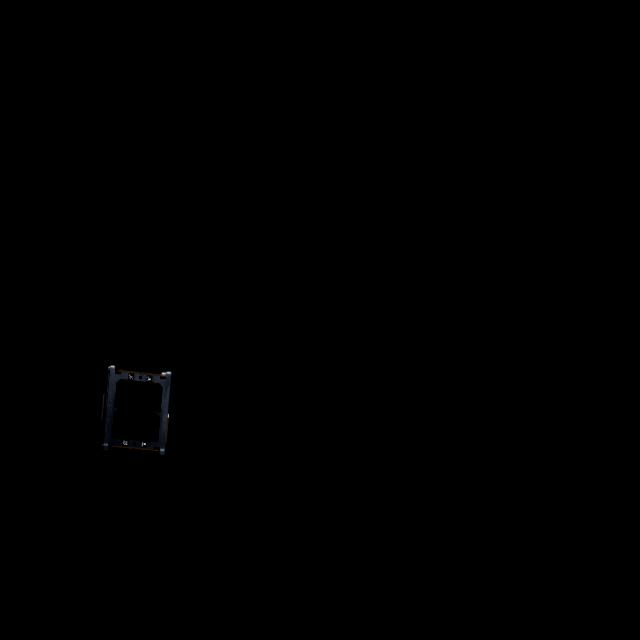medium_debris: (100, 366, 184, 462)
